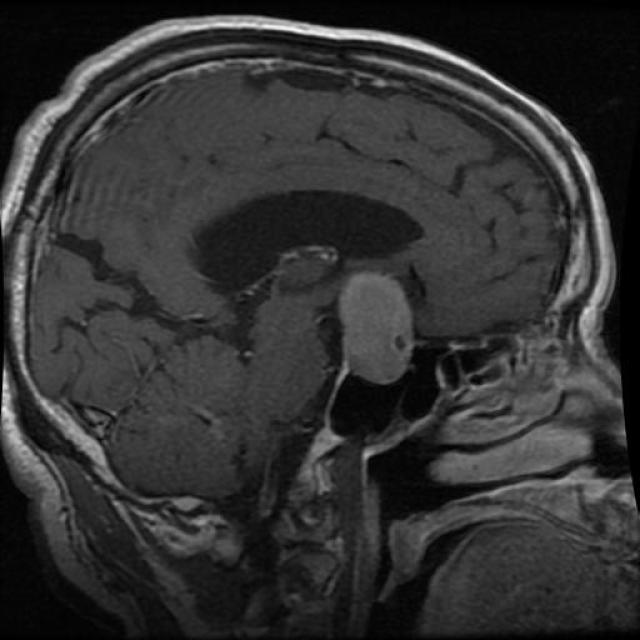pituitary: (331, 266, 424, 390)
